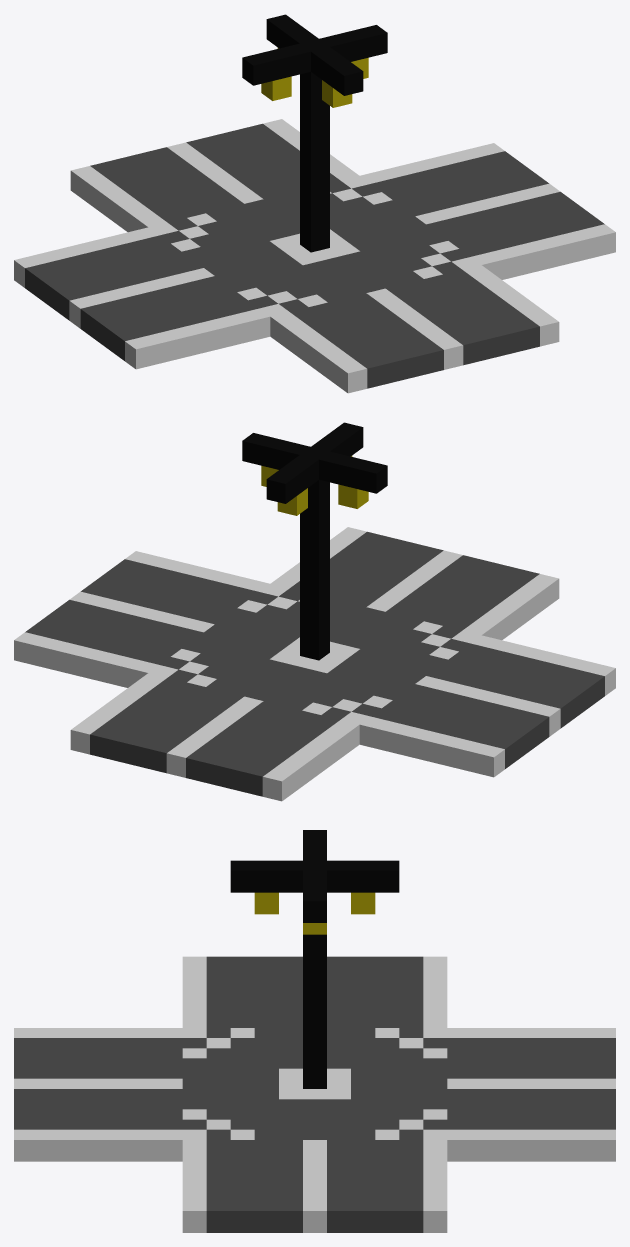
Rendered from StraßeKreisverkehrLicht.obj.
3 renders of one model, top to bottom at view 1: azimuth 30°, elevation 25°; view 2: azimuth 150°, elevation 25°; view 3: azimuth 270°, elevation 25°, orthographic. The views are drawn at different scales.
Bounding box in the file's own units: 5 × 2.2 × 5.
1 material, 1 textured.
